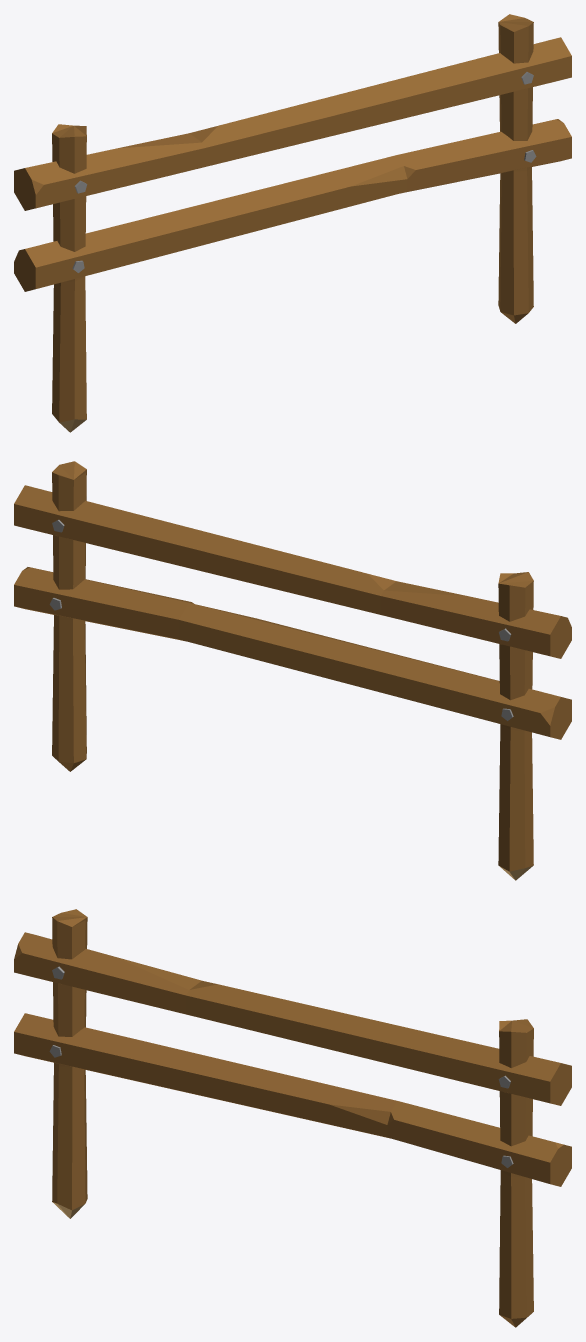
The model's file is Wooden Fence.glb.
3 renders of one model, top to bottom at view 1: azimuth 30°, elevation 25°; view 2: azimuth 150°, elevation 25°; view 3: azimuth 330°, elevation 25°, orthographic.
Visible parts, largest first — view 1: WoodenFence; view 2: WoodenFence; view 3: WoodenFence.
Part boxes in pixels (x1=…): WoodenFence: x1=14, y1=14, x2=571, y2=432; WoodenFence: x1=14, y1=461, x2=571, y2=880; WoodenFence: x1=14, y1=909, x2=571, y2=1327.
Size of the model in its own units: 1.8 by 0.9755 by 0.1388.
